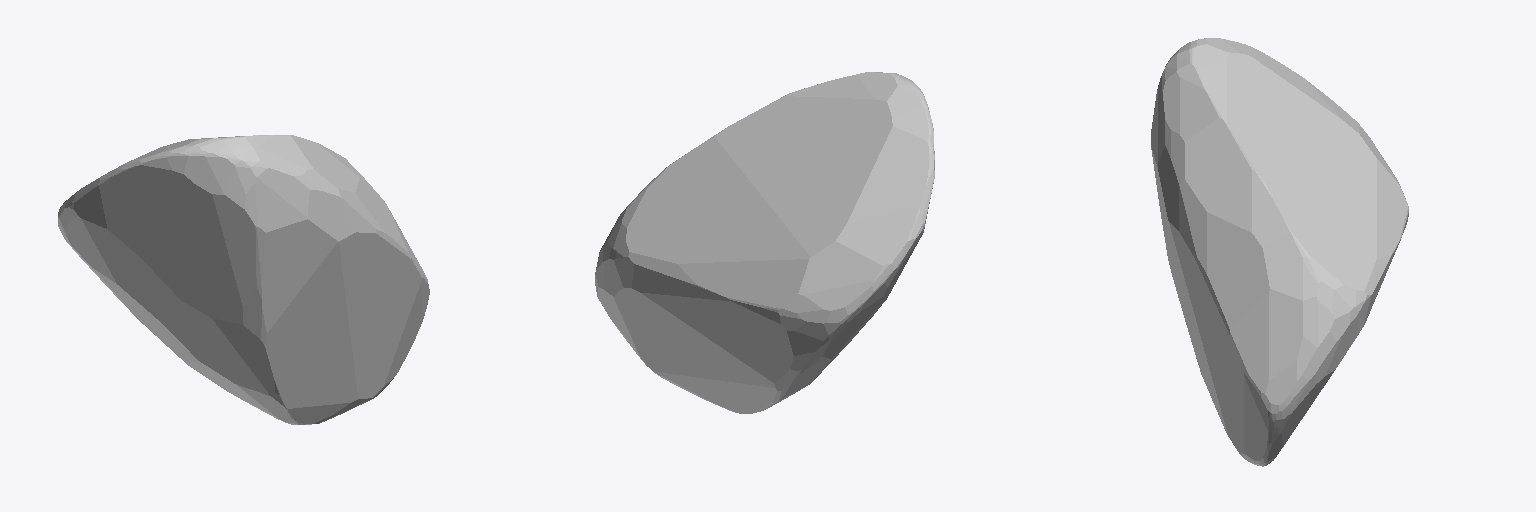
The picture shows the model from 3 angles: view 1: azimuth 30°, elevation 25°; view 2: azimuth 150°, elevation 25°; view 3: azimuth 270°, elevation 25°; orthographic projection.
Visible parts, largest first — view 1: BJ13_519; view 2: BJ13_519; view 3: BJ13_519.
Boxes of the visible parts, x1,y1,x2,y2 form: BJ13_519: [58, 135, 429, 424]; BJ13_519: [595, 72, 934, 413]; BJ13_519: [1151, 38, 1408, 466].
Bounding box in the file's own units: 1.72 × 1.63 × 1.13.